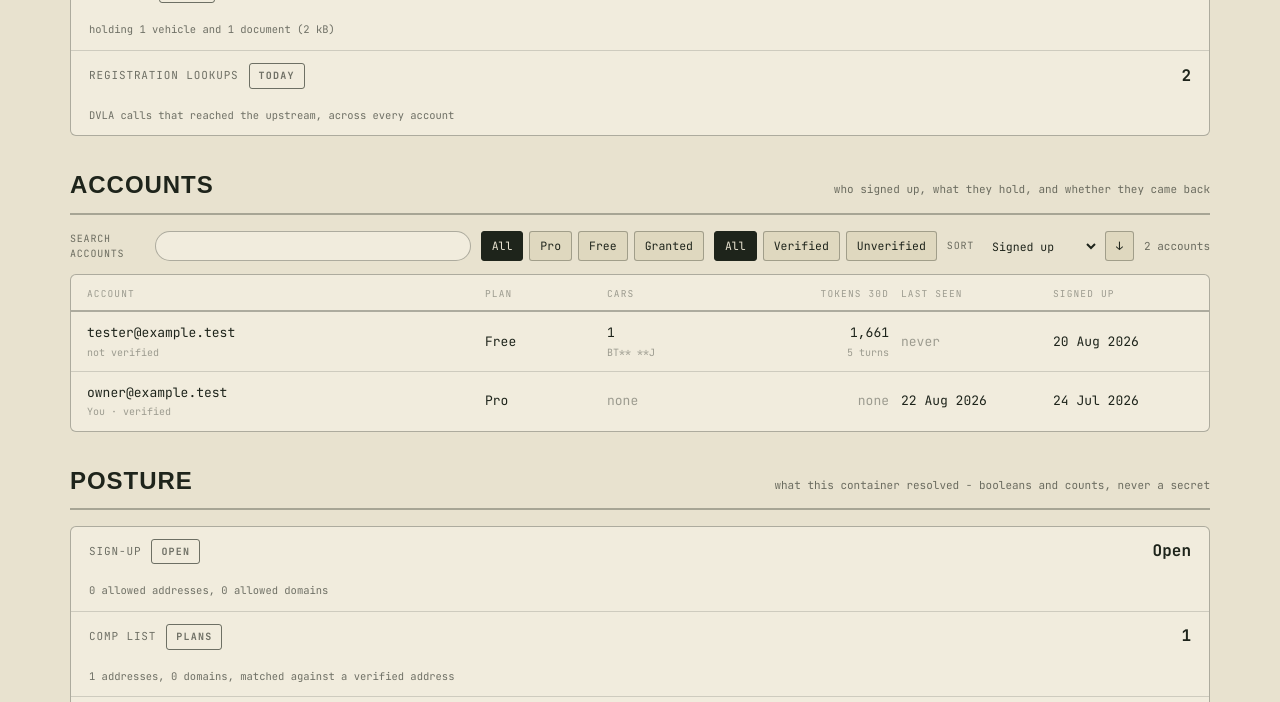
the admin page › opens an account and offers the plan control to a principal that may write one
The width and height of the screenshot is (1280, 702).
(page scrolled)
Click the row named "Open tester@example.test": (640, 342) [71,312,1209,372]
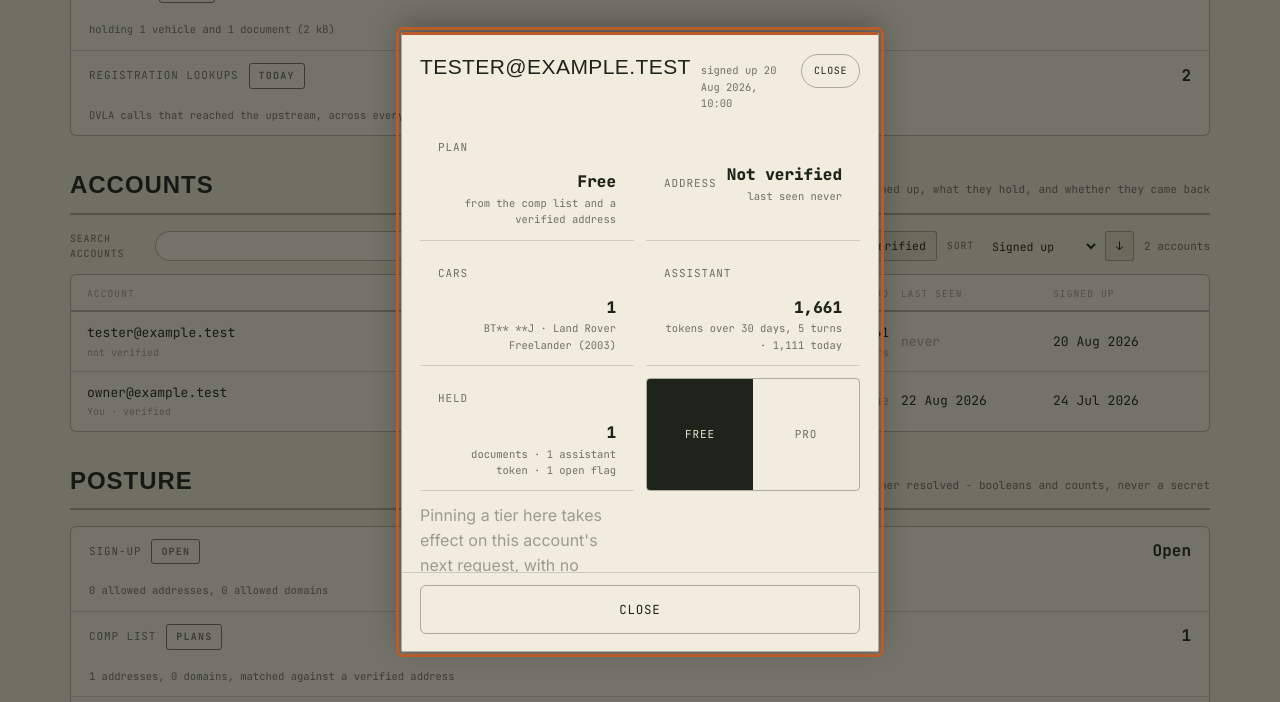
Check: the element named "Set plan" is shown, box [646,378,860,491]
Check: the text "BT** **J · Land Rover Freelander (2003)" is shown, box [484,321,616,352]
